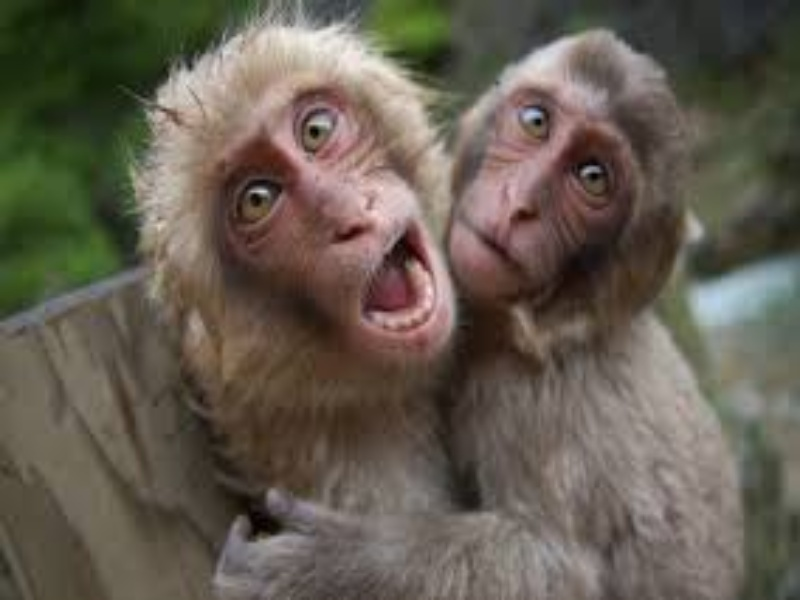monkey: (118, 11, 752, 597)
